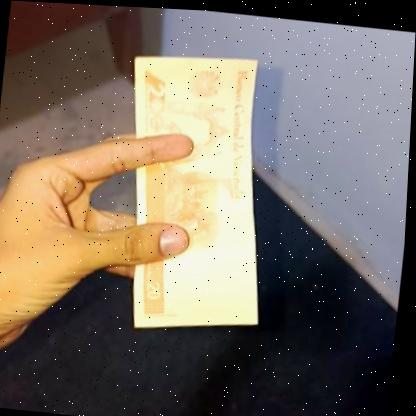twenty-back-vef: (111, 45, 281, 338)
